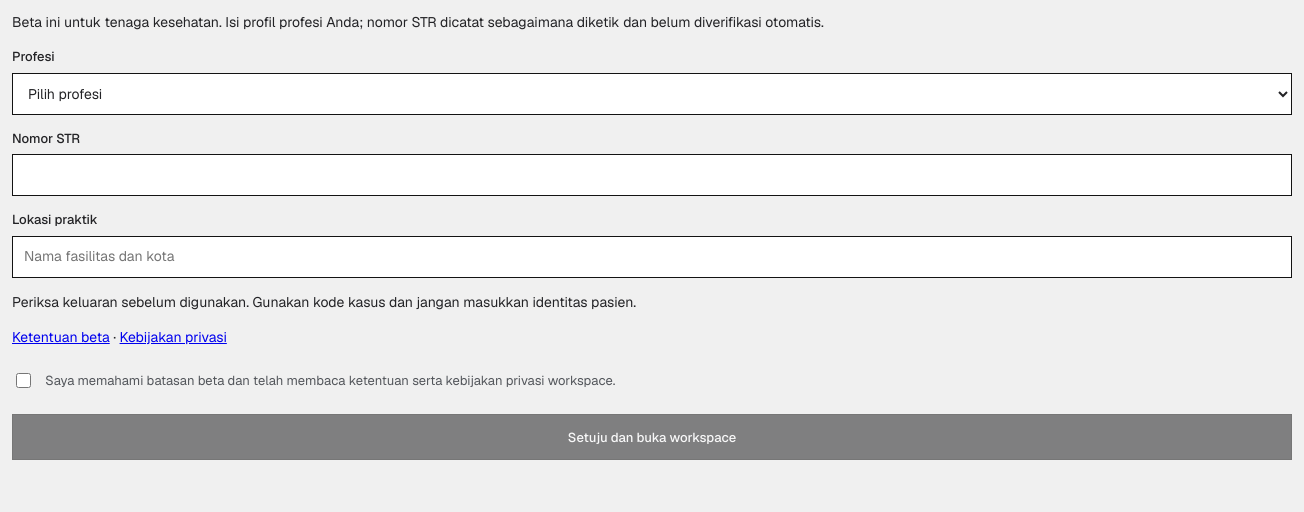
it: beta acknowledgement › offers sign-in after a session expires during consent
Select "Dokter" in the dropdown labelled "Profesi" at (652, 94), box [12,72,1292,114]
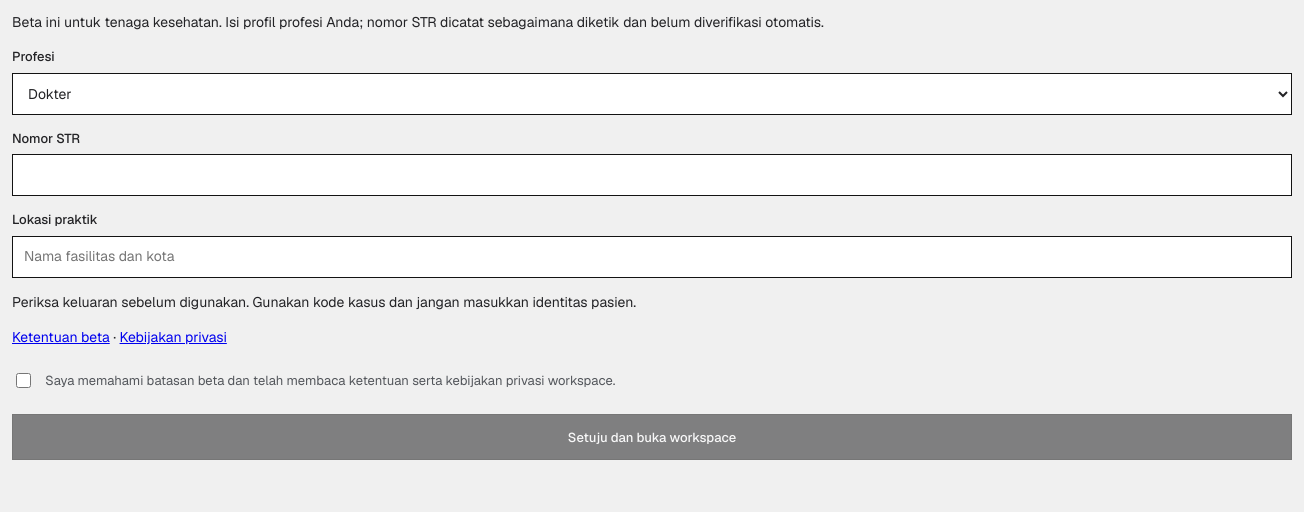
Type "STR-0001-TEST" into the field labelled "Nomor STR" at (652, 175), box [12,154,1292,196]
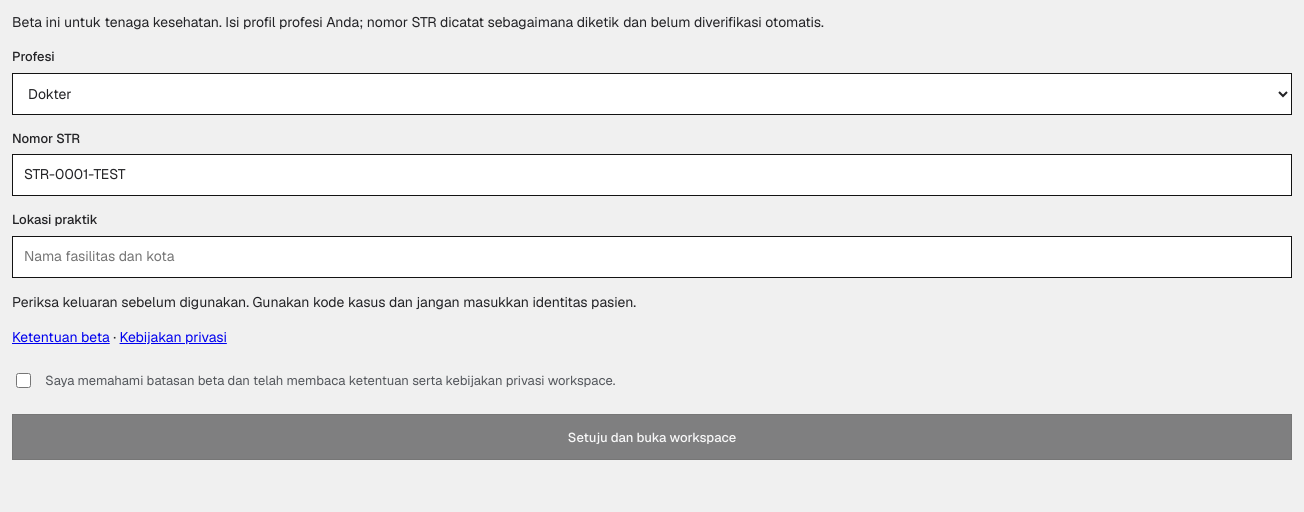
Type "Puskesmas Contoh" into the field labelled "Lokasi praktik" at (652, 256), box [12,236,1292,278]
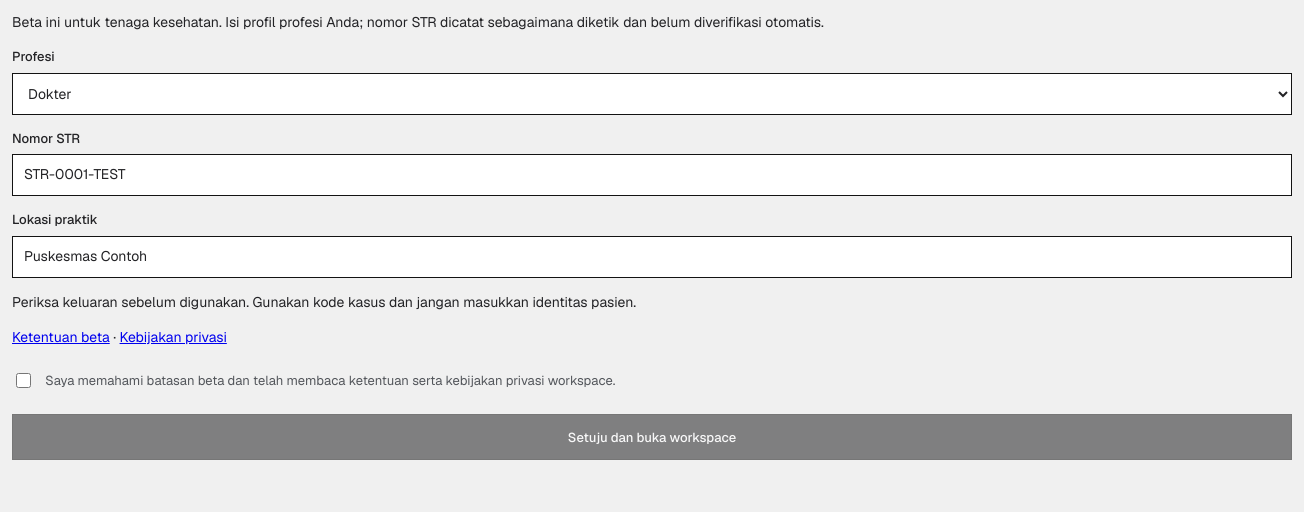
Click the checkbox at (24, 381), box [16,373,31,388]
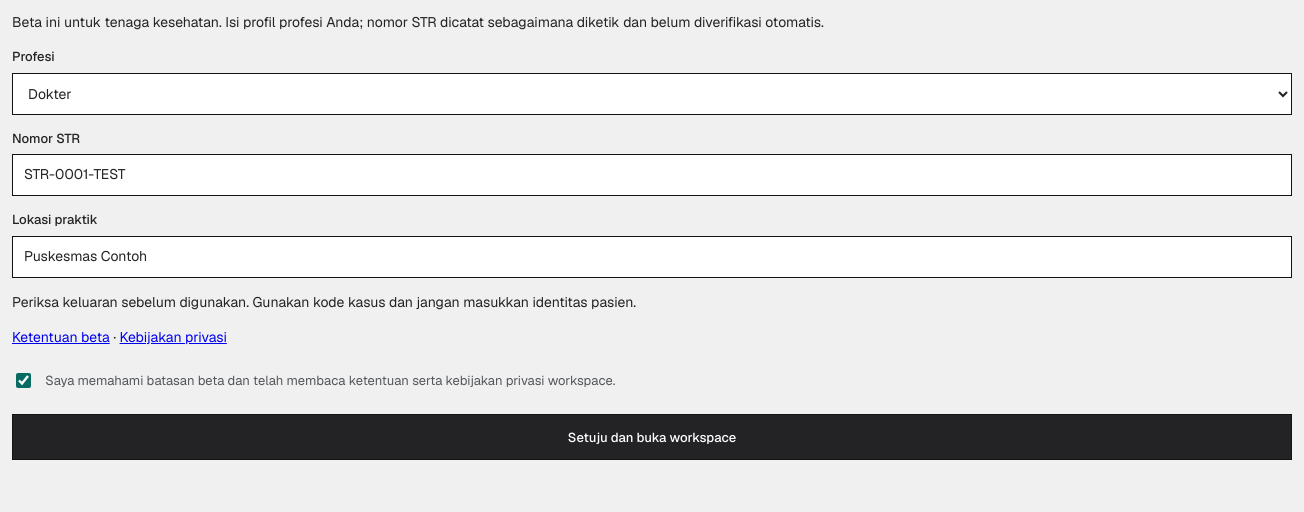
Click the button "Setuju dan buka workspace" at (652, 437), box [12,414,1292,460]
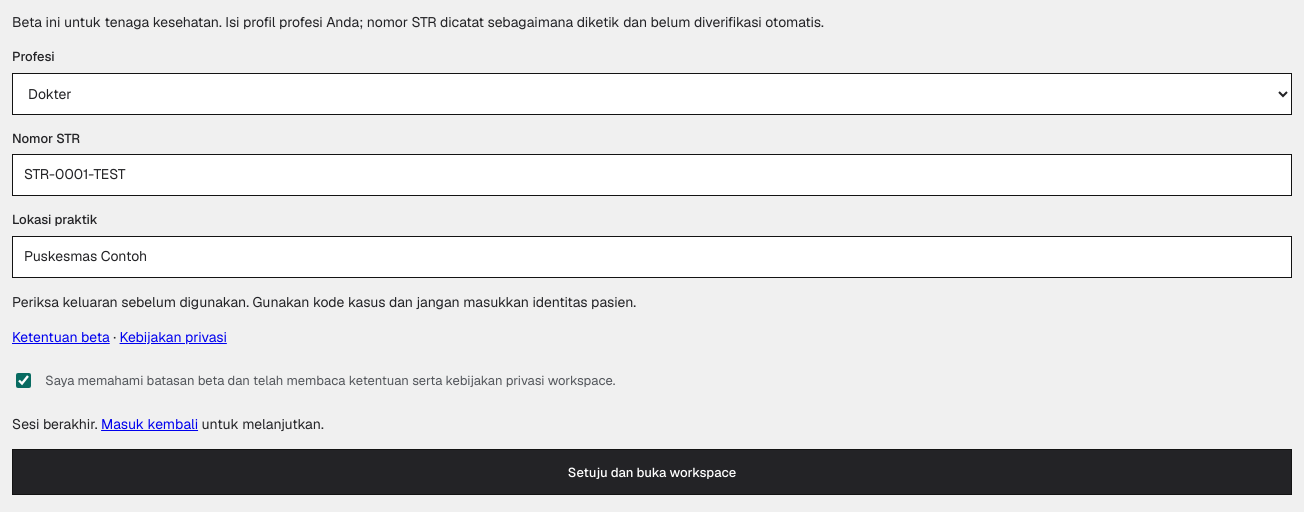
Result: the message "Sesi berakhir. Masuk kembali untuk melanjutkan." is shown at [12,415,324,433]
